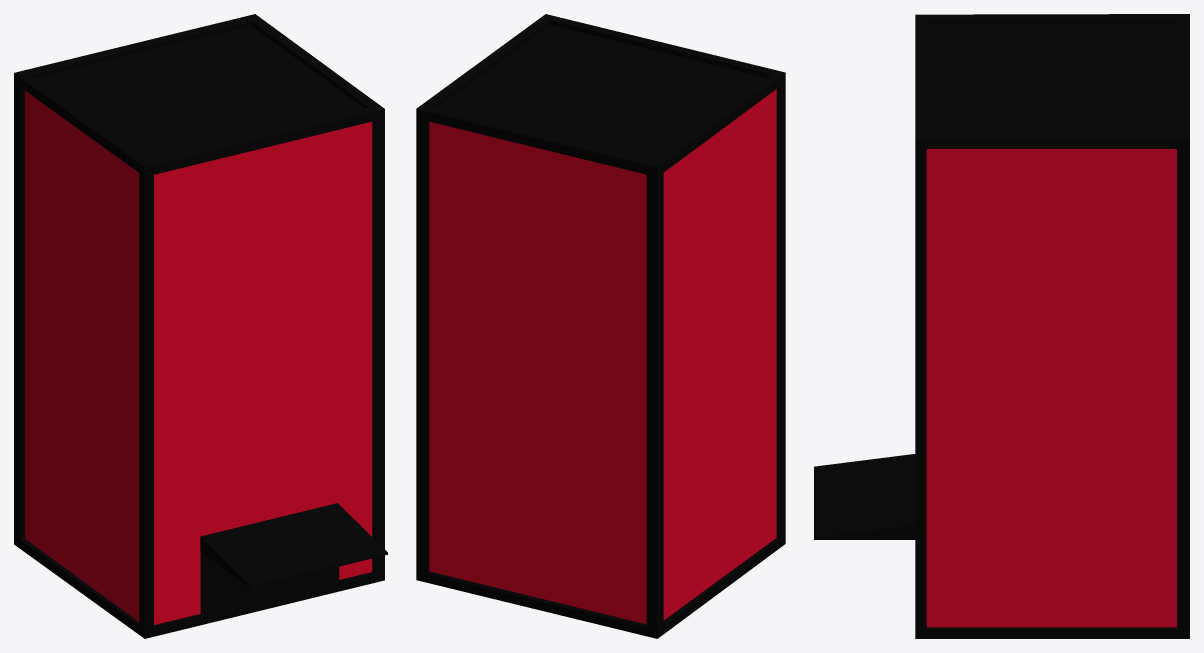
3 renders of one model, left to right at view 1: azimuth 30°, elevation 25°; view 2: azimuth 150°, elevation 25°; view 3: azimuth 270°, elevation 25°, orthographic. The views are drawn at different scales.
Visible parts, largest first — view 1: Building1; view 2: Building1; view 3: Building1.
Part boxes in pixels (x1=…): Building1: x1=14, y1=14, x2=387, y2=638; Building1: x1=416, y1=14, x2=785, y2=638; Building1: x1=814, y1=14, x2=1189, y2=638.
Bounding box in the file's own units: 5198 × 9711 × 6614.
